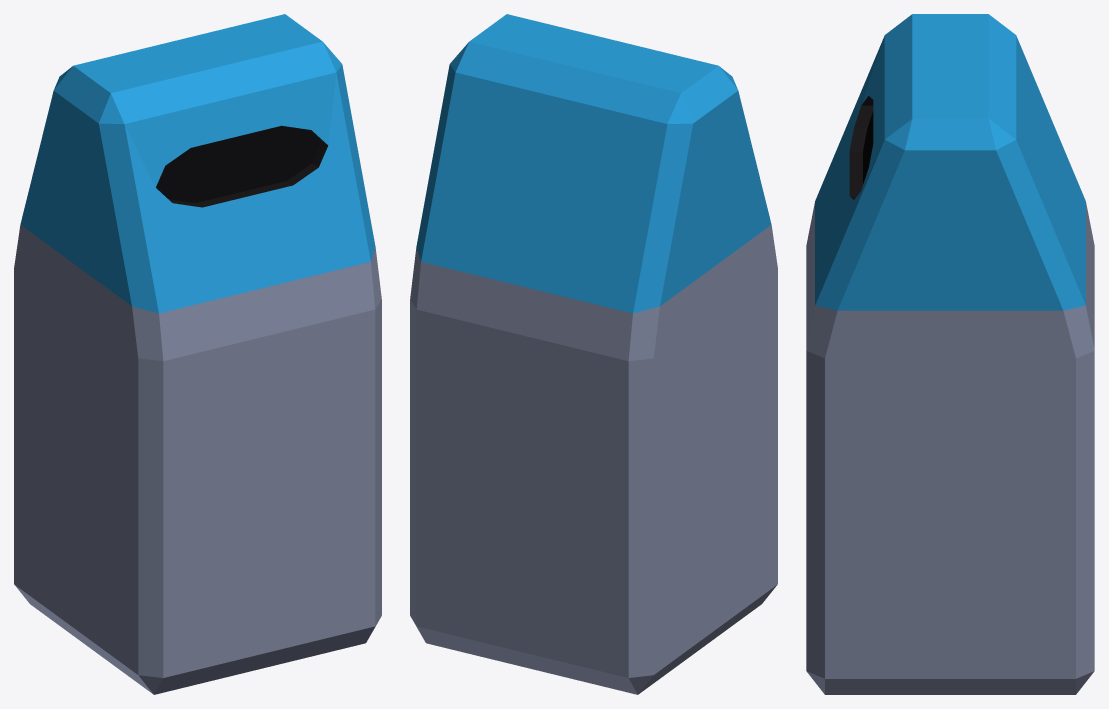
File: RecycleCan_Blue.fbx
3 renders of one model, left to right at view 1: azimuth 30°, elevation 25°; view 2: azimuth 150°, elevation 25°; view 3: azimuth 270°, elevation 25°, orthographic.
Visible parts, largest first — view 1: RecycleCan_Blue; view 2: RecycleCan_Blue; view 3: RecycleCan_Blue.
Boxes of the visible parts, bbox=[...] form: RecycleCan_Blue: bbox=[14, 14, 381, 694]; RecycleCan_Blue: bbox=[410, 14, 777, 694]; RecycleCan_Blue: bbox=[806, 14, 1094, 694].
Size of the model in its own units: 140 by 313 by 142.
